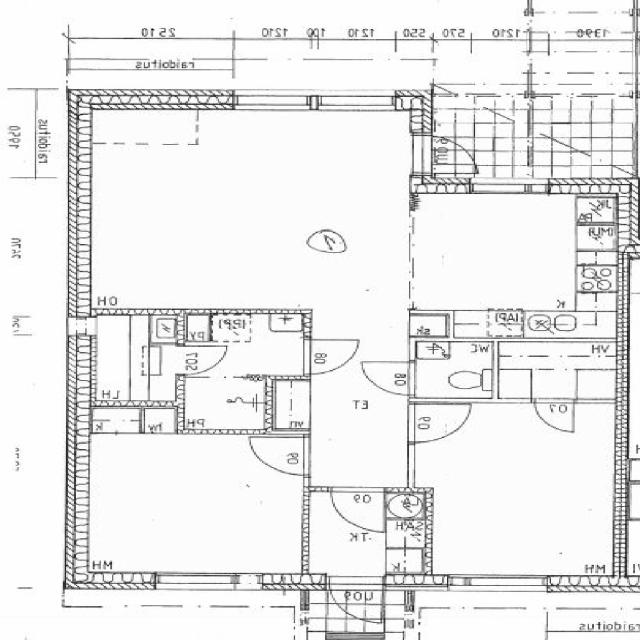door: (329, 574, 384, 630), (408, 135, 484, 174), (250, 437, 310, 475), (408, 404, 468, 442), (332, 487, 384, 528), (304, 339, 359, 373), (360, 361, 414, 395), (176, 346, 224, 374), (536, 398, 574, 430)
